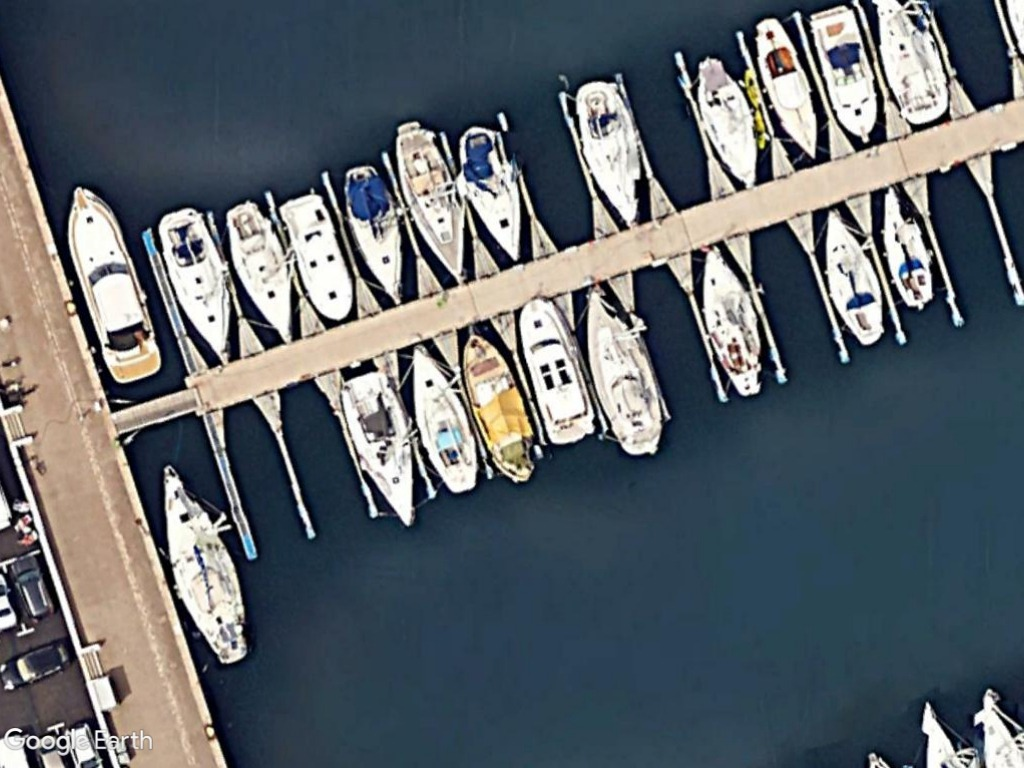boat: (153, 459, 262, 670), (65, 180, 166, 387), (574, 277, 665, 459), (338, 365, 428, 535), (457, 323, 541, 492), (515, 290, 600, 453), (570, 76, 654, 233), (396, 122, 475, 287), (153, 203, 234, 363), (218, 196, 302, 349), (801, 4, 885, 148), (403, 336, 479, 494), (696, 240, 769, 399), (273, 188, 356, 326), (752, 10, 824, 162), (818, 204, 892, 349), (455, 121, 529, 265), (340, 164, 414, 306), (691, 49, 761, 193), (870, 179, 937, 310)
car: (0, 636, 74, 696)
